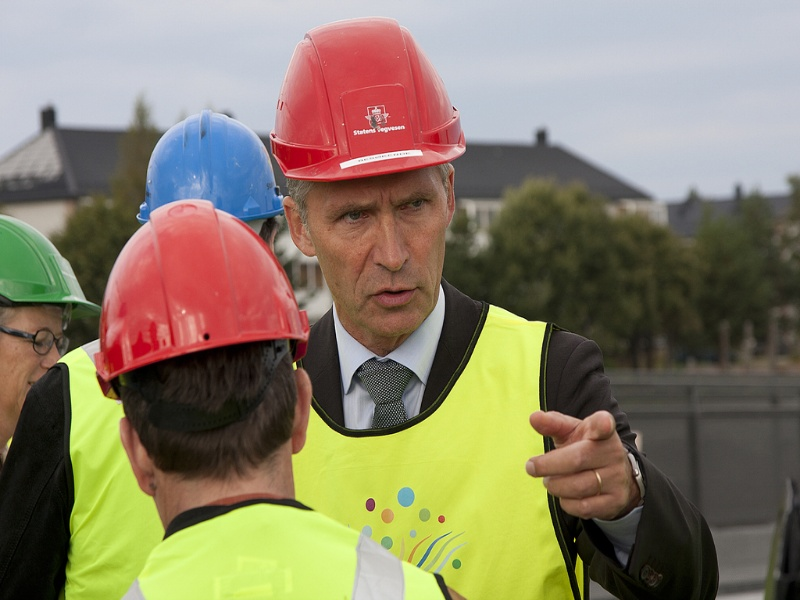baret: (95, 199, 312, 392), (269, 17, 469, 183)
